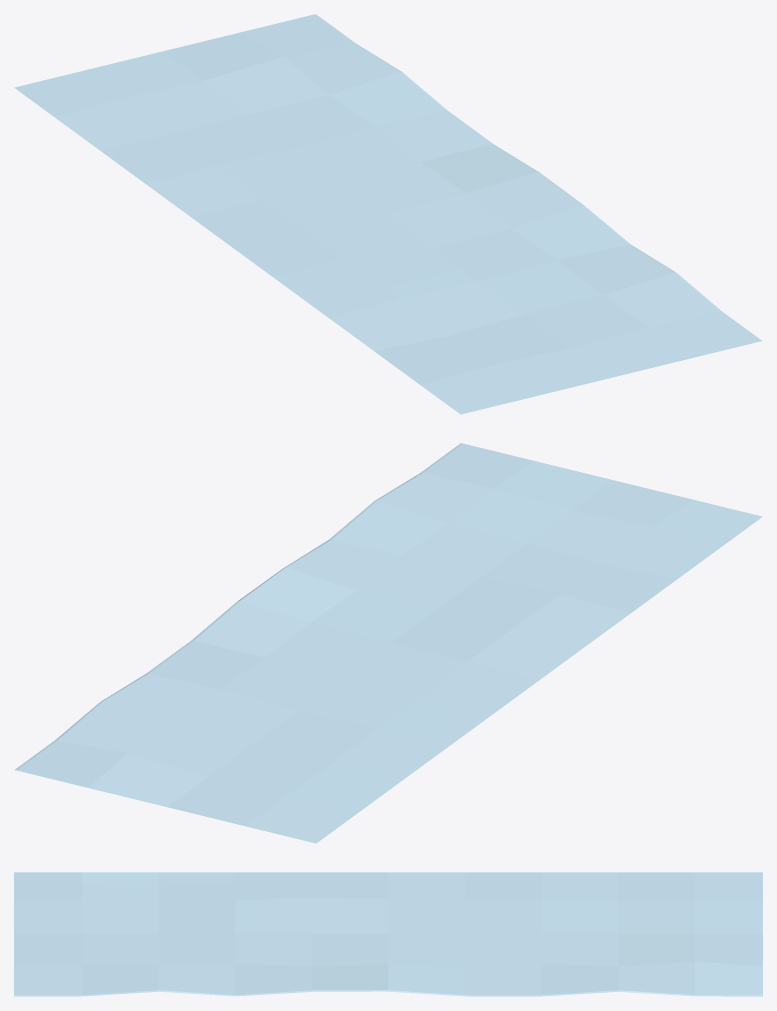
Rendered from road.fbx.
3 renders of one model, top to bottom at view 1: azimuth 30°, elevation 25°; view 2: azimuth 150°, elevation 25°; view 3: azimuth 270°, elevation 25°, orthographic. The views are drawn at different scales.
Visible parts, largest first — view 1: model_road_snow_straight_01; view 2: model_road_snow_straight_01; view 3: model_road_snow_straight_01.
Boxes of the visible parts, x1,y1,x2,y2 form: model_road_snow_straight_01: (14,14,762,414); model_road_snow_straight_01: (14,443,762,843); model_road_snow_straight_01: (14,872,762,996).
Bounding box in the file's own units: 2345 × 62.78 × 6000.
